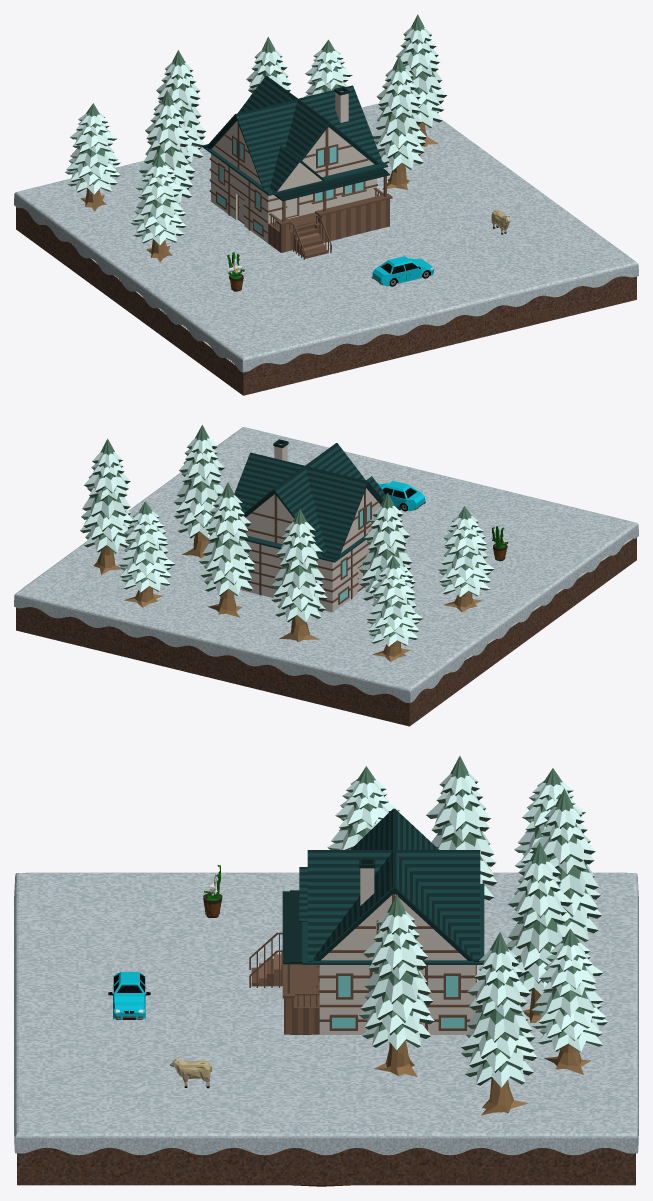
3 renders of one model, top to bottom at view 1: azimuth 30°, elevation 25°; view 2: azimuth 150°, elevation 25°; view 3: azimuth 270°, elevation 25°, orthographic. The views are drawn at different scales.
Parts seen in each view (by area): view 1: Cube.003, Cube.793, VEHICLES_CAR; view 2: Cube.003, Cube.793, VEHICLES_CAR; view 3: Cube.003, Cube.793, VEHICLES_CAR, ANIMAL_OVEJA, OBJRANDOM_MONJA BLANCA.
Boxes of the visible parts, left/top/right/bottom form: Cube.003: left=14, top=14, right=638, bottom=395; Cube.793: left=202, top=76, right=392, bottom=259; VEHICLES_CAR: left=371, top=256, right=434, bottom=286; Cube.003: left=14, top=425, right=638, bottom=726; Cube.793: left=234, top=439, right=405, bottom=612; VEHICLES_CAR: left=377, top=481, right=425, bottom=511; Cube.003: left=14, top=756, right=638, bottom=1185; Cube.793: left=249, top=808, right=484, bottom=1034; VEHICLES_CAR: left=108, top=972, right=150, bottom=1019; ANIMAL_OVEJA: left=170, top=1058, right=212, bottom=1088; OBJRANDOM_MONJA BLANCA: left=203, top=865, right=222, bottom=917.
Bounding box in the file's own units: 4040 × 1758 × 4040.
33 materials, 4 textured.
